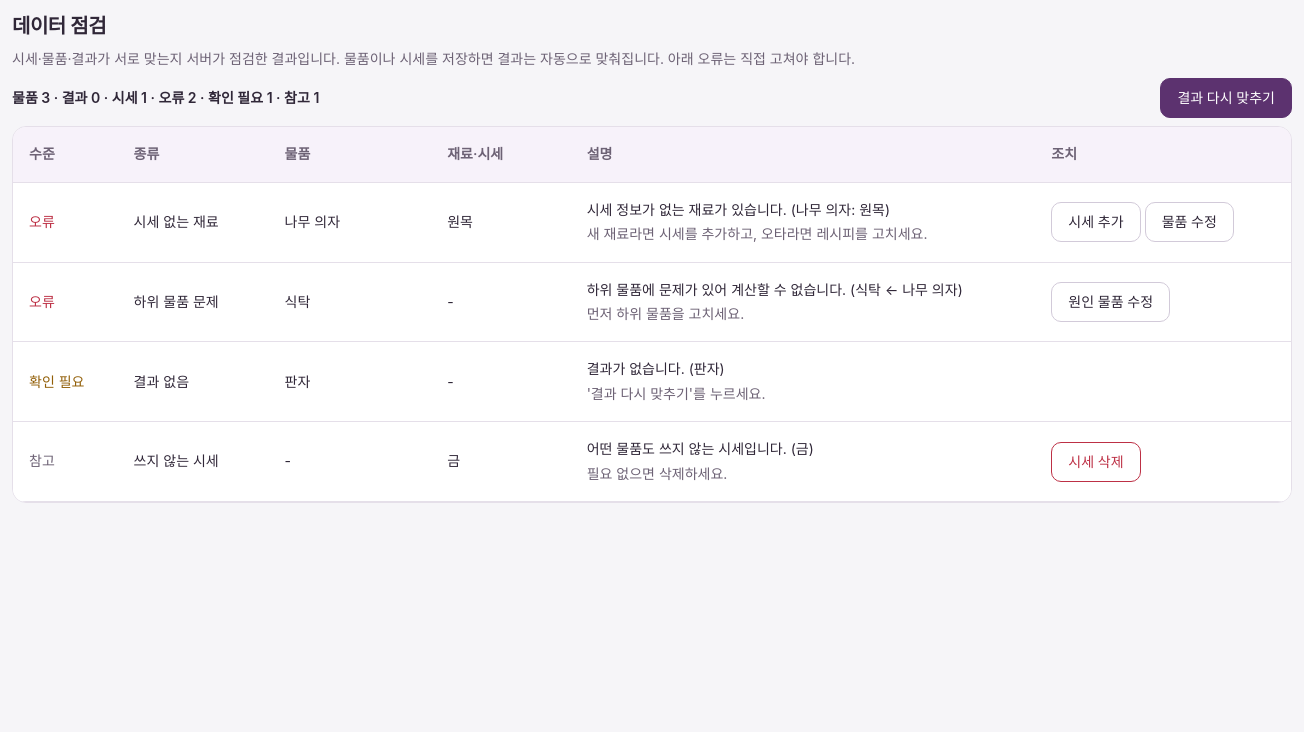
it: CatalogCheckPage › 결과 다시 맞추기는 결과 동기화를 부르고, 새로 만든 건수를 알린 뒤 점검을 다시 받는다
What coordinates should you click on to do the following:
click the button "결과 다시 맞추기"
I would click on:
 (1226, 98)
Its box is [1160,78,1292,118].
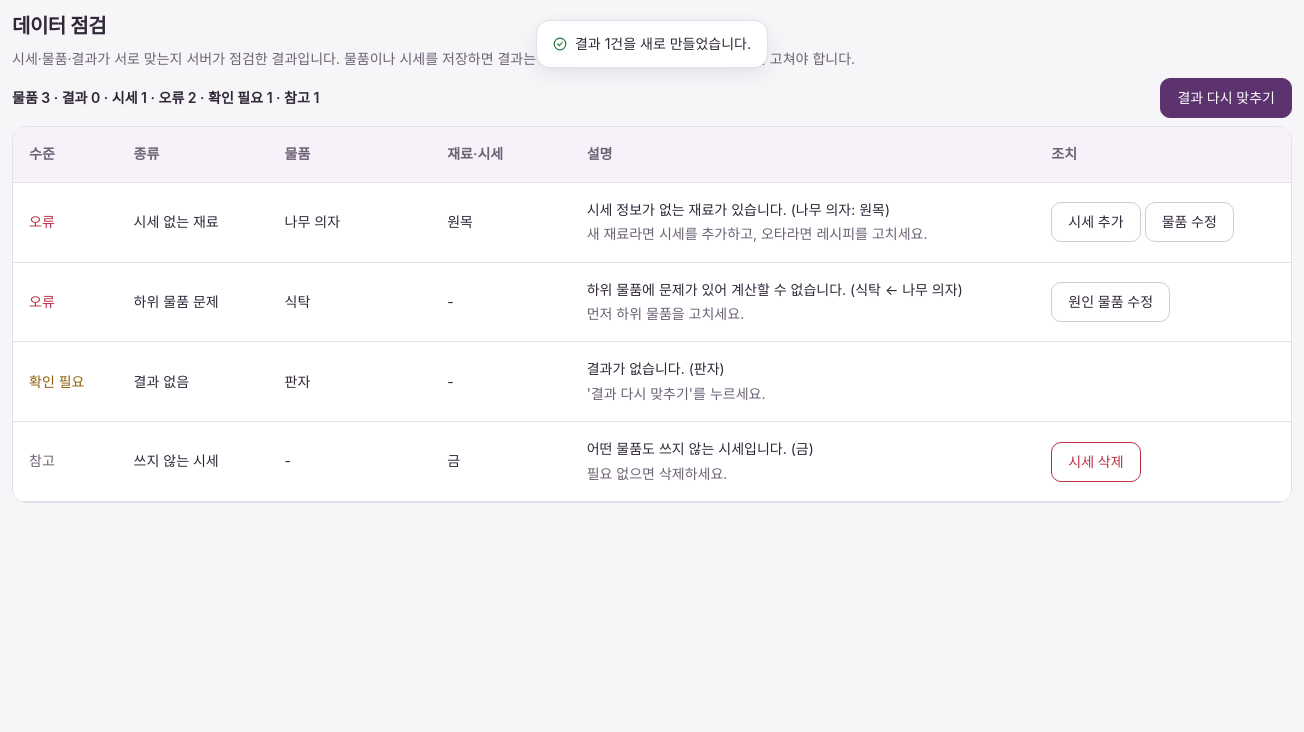
expect the text "결과 1건을 새로 만들었습니다." is shown: met, box [575,33,751,55]
What coordinates should you click on to do the following:
click the button "결과 다시 맞추기"
I would click on:
 (1226, 98)
Its box is [1160,78,1292,118].
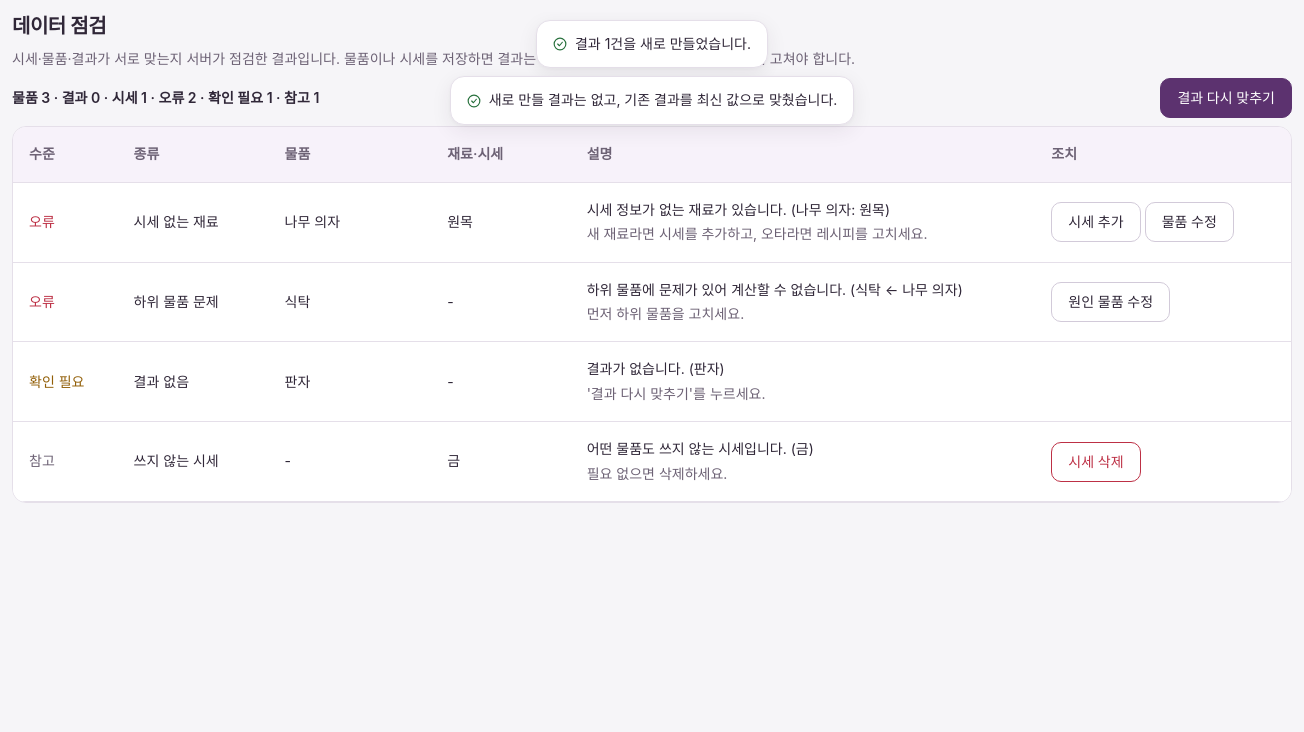
expect the text "새로 만들 결과는 없고, 기존 결과를 최신 값으로 맞췄습니다." is shown: met, box [489,89,837,112]
